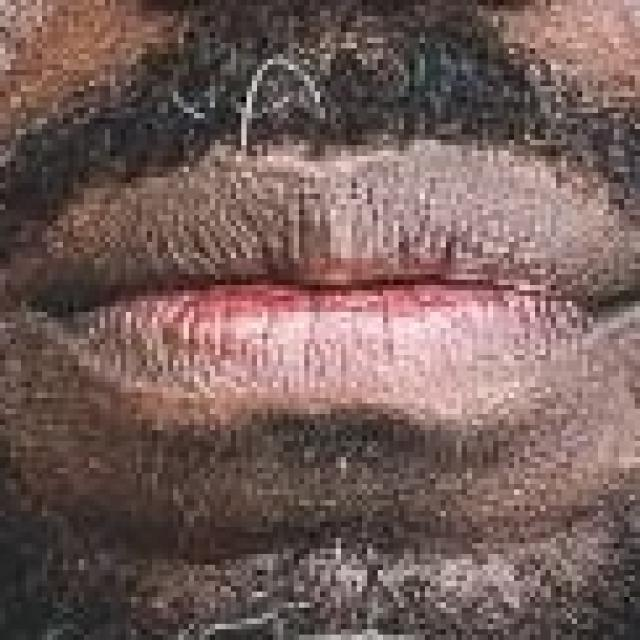closed-mouth: (62, 179, 624, 389)
